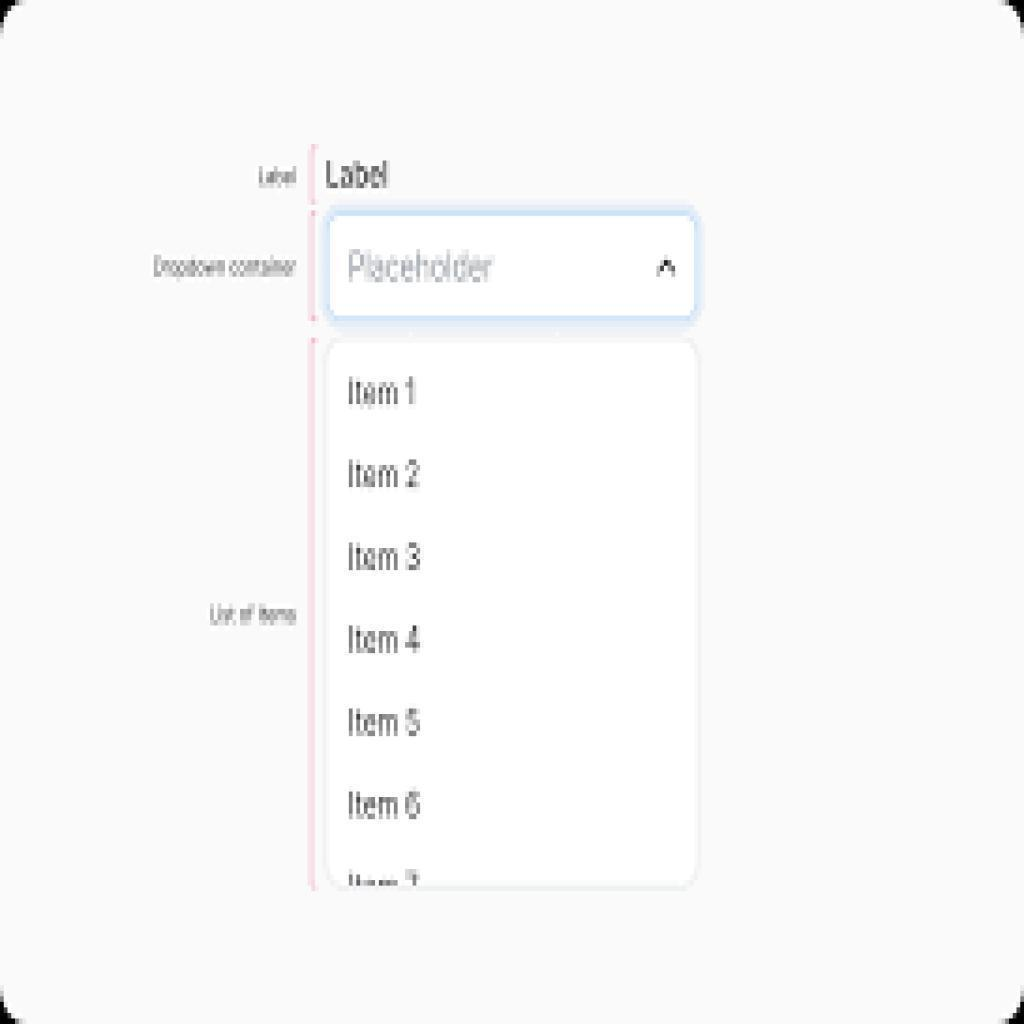dropdown: (322, 214, 696, 316)
